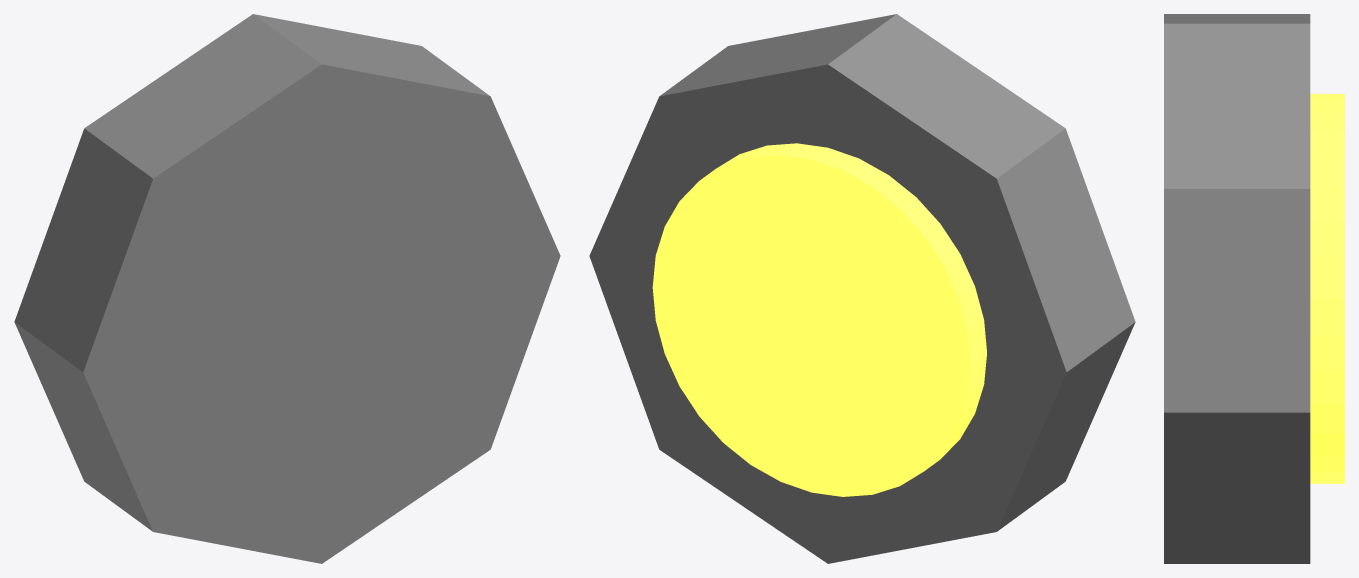
File: YellowEye.fbx
The picture shows the model from 3 angles, left to right: view 1: azimuth 30°, elevation 25°; view 2: azimuth 150°, elevation 25°; view 3: azimuth 270°, elevation 25°; orthographic projection. The views are drawn at different scales.
Parts seen in each view (by area): view 1: Cube.061; view 2: Cube.061; view 3: Cube.061.
Boxes of the visible parts, bbox=[...] form: Cube.061: bbox=[14, 14, 560, 563]; Cube.061: bbox=[589, 14, 1135, 563]; Cube.061: bbox=[1164, 14, 1344, 563].
Size of the model in its own units: 0.8541 by 0.2639 by 0.8541.
